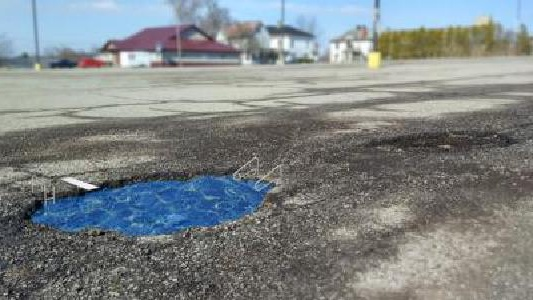pothole: (21, 166, 278, 236), (362, 126, 517, 153)
